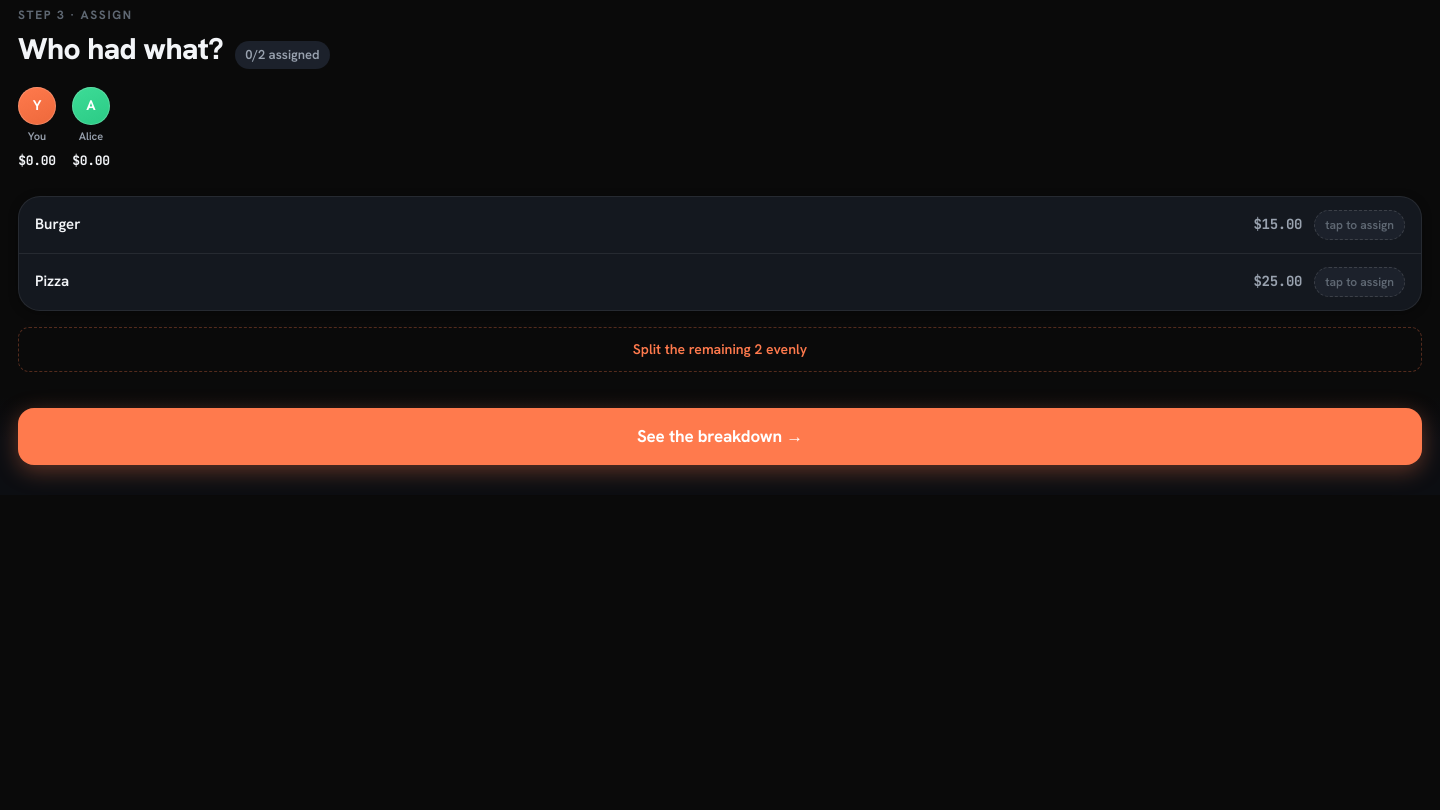
<AssignScreen /> — AssignSheet › tapping an item row opens the AssignSheet
Click the button "assign burger" at (58, 224), box [19,196,1421,254]
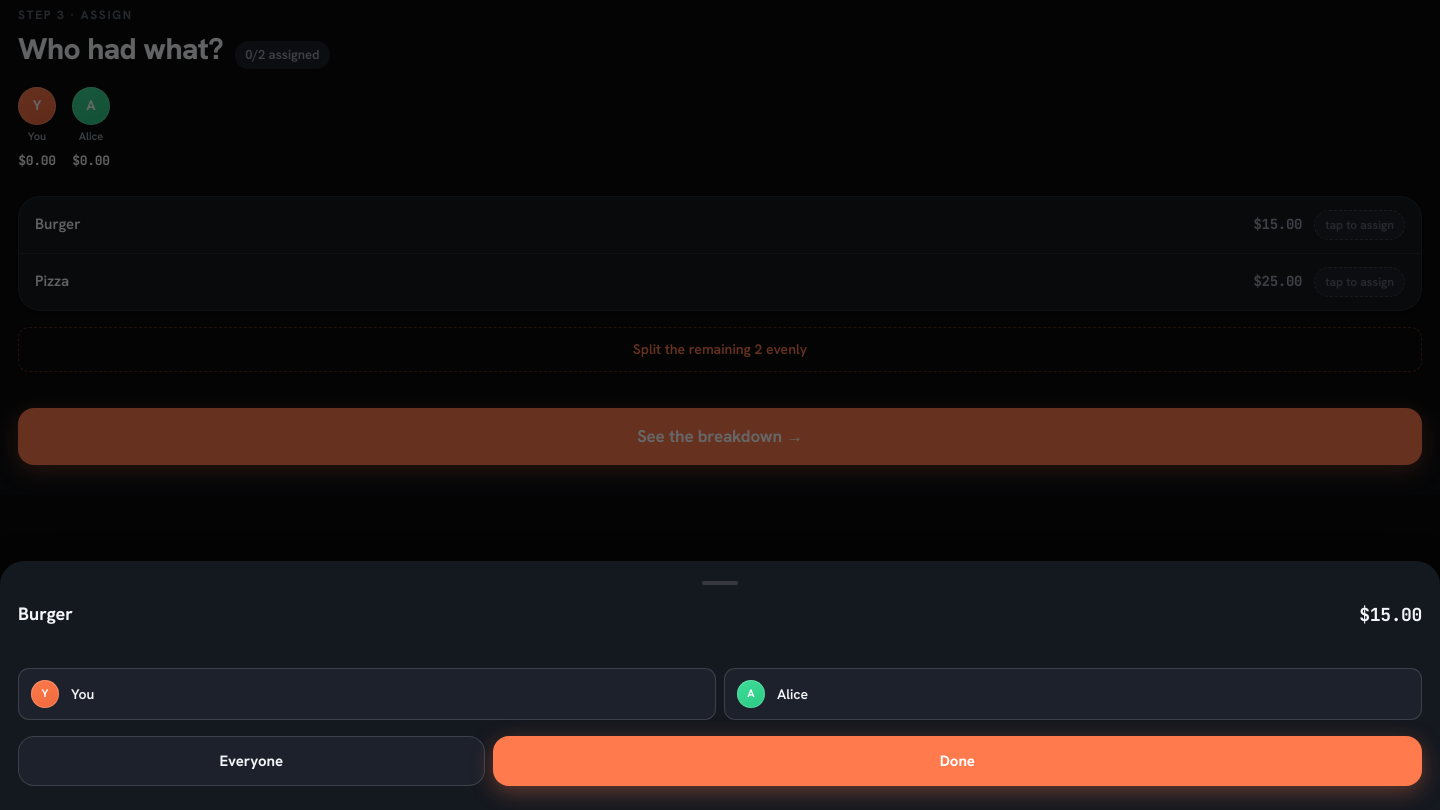
Now the dialog is shown, box [0,560,1439,809]
